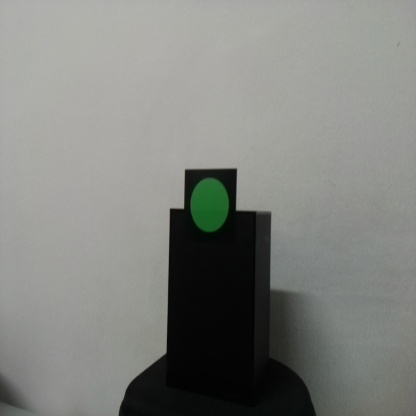id_5: (185, 170, 237, 243)
